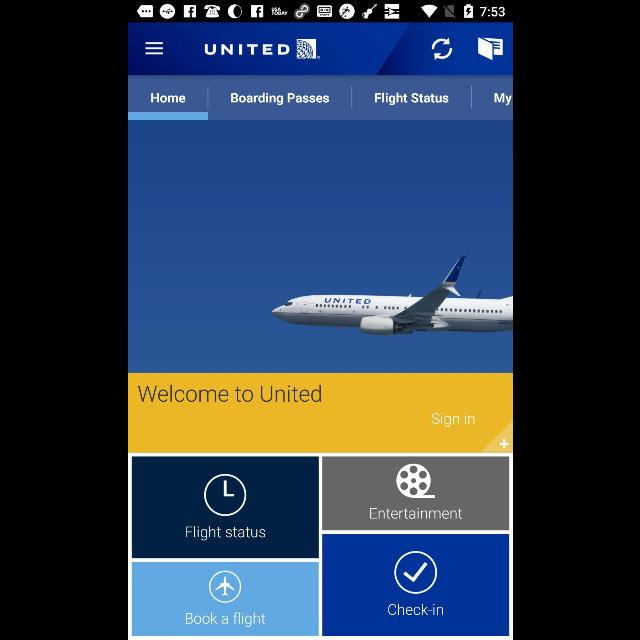icon: (204, 474, 246, 516), (476, 38, 502, 61), (431, 38, 452, 61), (145, 42, 163, 56), (499, 439, 509, 448)
image: (268, 255, 512, 338), (204, 39, 320, 59), (394, 550, 436, 594), (396, 464, 434, 498), (208, 570, 240, 604)
multitab: (128, 76, 512, 120)
text: (137, 384, 320, 402), (231, 92, 329, 106), (185, 611, 265, 627), (185, 526, 265, 540), (370, 508, 462, 520), (374, 92, 448, 106), (388, 603, 442, 615), (432, 413, 474, 427), (151, 93, 185, 103), (493, 92, 512, 106)
toolbar: (128, 24, 512, 74)
uppertaskbar: (128, 1, 512, 23)
